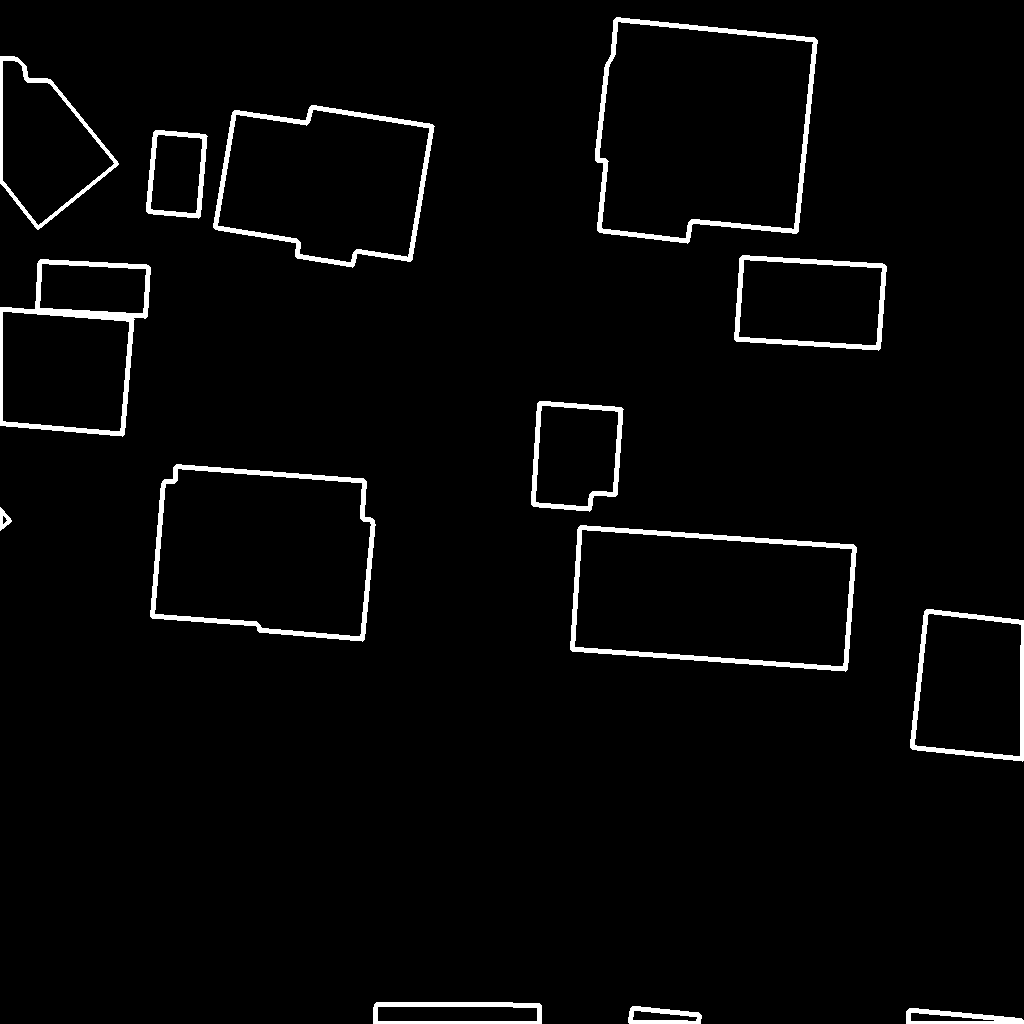building: (597, 19, 817, 242), (572, 527, 856, 670), (152, 466, 374, 640), (215, 107, 433, 266), (0, 58, 118, 229), (0, 309, 133, 435), (912, 611, 1024, 760), (736, 257, 886, 349), (533, 403, 622, 510), (37, 261, 150, 317), (148, 132, 206, 217), (375, 1004, 541, 1024), (908, 1010, 1024, 1024), (630, 1008, 701, 1024), (0, 509, 11, 530)
